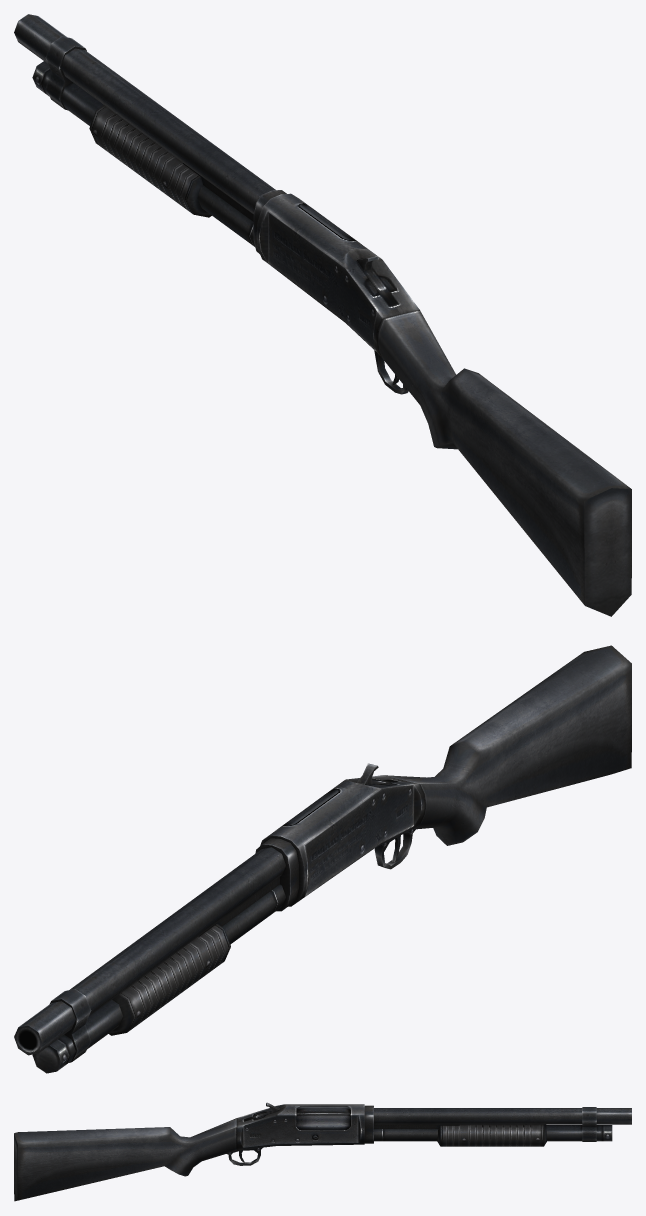
The model's file is Shotgun1.fbx.
The picture shows the model from 3 angles, top to bottom: view 1: azimuth 30°, elevation 25°; view 2: azimuth 150°, elevation 25°; view 3: azimuth 270°, elevation 25°; orthographic projection. The views are drawn at different scales.
Visible parts, largest first — view 1: Shotgun1; view 2: Shotgun1; view 3: Shotgun1.
Part boxes in pixels (x1,y1,x2,y2): Shotgun1: [14, 14, 631, 616]; Shotgun1: [14, 645, 631, 1073]; Shotgun1: [14, 1102, 631, 1201].
Bounding box in the file's own units: 3.24 × 11.8 × 67.62.
